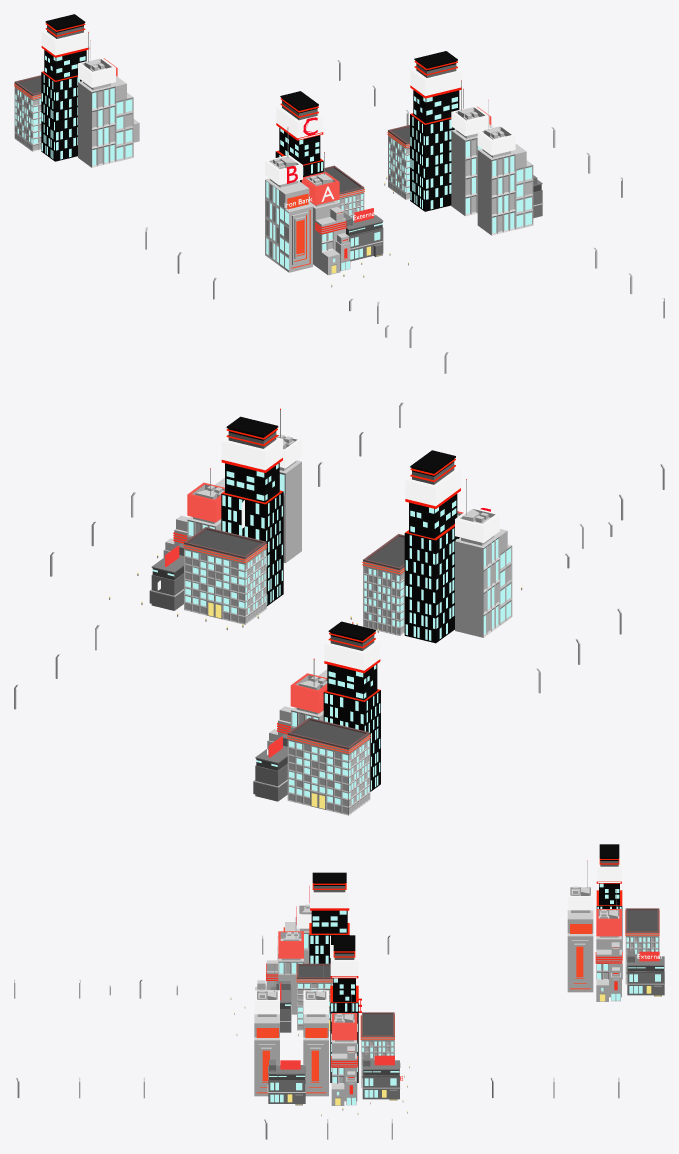
File: City.glb
3 views of the same model, one above another, from view 1: azimuth 30°, elevation 25°; view 2: azimuth 150°, elevation 25°; view 3: azimuth 270°, elevation 25° (orthographic). The views are drawn at different scales.
Parts seen in each view (by area): view 1: Plane.039, Plane.044, Plane.043, Plane.026, Plane.009, Plane.040, Plane.007, Plane.006, Plane.022, Plane.003, Plane.033, Plane.005 (+1 smaller); view 2: Plane.007, Plane.039, Plane.022, Plane.033, Plane.009, Plane.044, Plane.002, Plane.043, Plane.023, Plane.034, Plane.036, Plane.024; view 3: Plane.007, Plane.026, Plane.040, Plane.039, Plane.043, Plane.044, Plane.034, Plane.023, Plane.042, Plane.022, Plane.033, Plane.037 (+8 smaller).
Boxes of the visible parts, x1,y1,x2,y2 form: Plane.039: (410, 51, 461, 211); Plane.044: (41, 14, 89, 161); Plane.043: (477, 100, 533, 235); Plane.026: (78, 32, 133, 167); Plane.009: (265, 127, 312, 272); Plane.040: (451, 80, 492, 216); Plane.007: (275, 91, 323, 182); Plane.006: (315, 207, 350, 275); Plane.022: (14, 75, 41, 151); Plane.003: (343, 208, 383, 261); Plane.033: (387, 125, 409, 200); Plane.005: (301, 152, 343, 265); Plane.007: (404, 450, 460, 643); Plane.039: (221, 416, 283, 606); Plane.022: (287, 717, 370, 815); Plane.033: (183, 527, 267, 624); Plane.009: (455, 479, 512, 637); Plane.044: (323, 621, 380, 791); Plane.002: (362, 534, 404, 635); Plane.043: (276, 408, 301, 562); Plane.023: (253, 734, 287, 801); Plane.034: (149, 543, 183, 610); Plane.036: (175, 468, 224, 539); Plane.024: (279, 658, 327, 730); Plane.007: (309, 872, 349, 963); Plane.026: (567, 860, 593, 992); Plane.040: (303, 964, 328, 1096); Plane.039: (330, 935, 358, 1082); Plane.043: (254, 964, 279, 1096); Plane.044: (596, 844, 622, 979); Plane.034: (362, 1054, 400, 1100); Plane.023: (626, 950, 664, 996); Plane.042: (267, 1059, 305, 1105); Plane.022: (625, 908, 659, 984); Plane.033: (360, 1012, 394, 1088); Plane.037: (331, 1046, 357, 1105).
Size of the model in its own units: 26.29 by 8.71 by 38.92.
